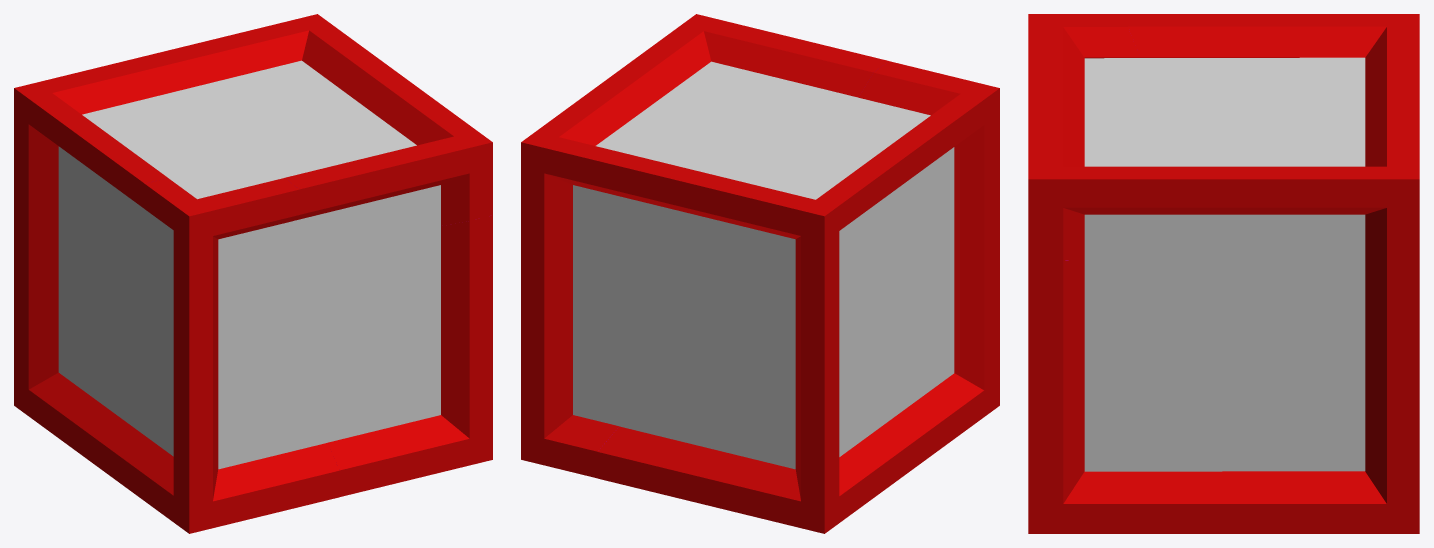
The model's file is Shattered_Crate_lp.fbx.
3 renders of one model, left to right at view 1: azimuth 30°, elevation 25°; view 2: azimuth 150°, elevation 25°; view 3: azimuth 270°, elevation 25°, orthographic. The views are drawn at different scales.
Visible parts, largest first — view 1: Wood_Plank3 (×3), Wood_Plank2 (×3), Wood_Plank4 (×3), Piece12, Wood_Plank (×3), Piece7, Piece13, Piece11, Wood_Plank5 (×2), Piece10, Piece1, Piece18 (+8 smaller); view 2: Wood_Plank3 (×3), Wood_Plank4 (×3), Wood_Plank2 (×3), Wood_Plank (×3), Piece7, Piece12, Wood_Plank5 (×3), Piece18, Piece9, Piece16, Piece10, Piece6 (+9 smaller); view 3: Wood_Plank3 (×2), Wood_Plank4 (×2), Wood_Plank2 (×2), Wood_Plank (×2), Piece13, Piece9, Piece11, Piece2, Piece1, Piece14, Piece6, Piece3 (+7 smaller).
Part boxes in pixels (bbox=[...]): Wood_Plank3 (×3): bbox=[111, 79, 364, 447]; Wood_Plank2 (×3): bbox=[79, 93, 308, 460]; Wood_Plank4 (×3): bbox=[143, 66, 419, 456]; Piece12: bbox=[103, 351, 339, 533]; Wood_Plank (×3): bbox=[58, 106, 253, 469]; Piece7: bbox=[144, 178, 299, 369]; Piece13: bbox=[328, 377, 492, 497]; Piece11: bbox=[441, 215, 492, 394]; Wood_Plank5 (×2): bbox=[281, 60, 440, 419]; Piece10: bbox=[14, 128, 58, 304]; Piece1: bbox=[398, 106, 492, 225]; Piece18: bbox=[14, 294, 89, 442]; Wood_Plank3 (×3): bbox=[663, 80, 913, 450]; Wood_Plank4 (×3): bbox=[617, 67, 945, 464]; Wood_Plank2 (×3): bbox=[608, 94, 898, 449]; Wood_Plank (×3): bbox=[573, 107, 930, 456]; Piece7: bbox=[859, 61, 999, 253]; Piece12: bbox=[893, 241, 999, 468]; Wood_Plank5 (×3): bbox=[596, 61, 954, 469]; Piece18: bbox=[753, 397, 875, 533]; Piece9: bbox=[521, 201, 572, 393]; Piece16: bbox=[597, 426, 753, 516]; Piece10: bbox=[795, 246, 839, 422]; Piece6: bbox=[778, 155, 900, 256]; Wood_Plank3 (×2): bbox=[1084, 106, 1365, 471]; Wood_Plank4 (×2): bbox=[1084, 137, 1365, 471]; Wood_Plank2 (×2): bbox=[1084, 77, 1365, 471]; Wood_Plank (×2): bbox=[1084, 57, 1365, 471]; Piece13: bbox=[1028, 429, 1222, 533]; Piece9: bbox=[1365, 245, 1419, 454]; Piece11: bbox=[1028, 260, 1084, 455]; Piece2: bbox=[1138, 166, 1345, 214]; Piece1: bbox=[1028, 147, 1148, 260]; Piece14: bbox=[1222, 471, 1362, 533]; Piece6: bbox=[1246, 14, 1419, 66]; Piece3: bbox=[1330, 151, 1419, 246].
Bounding box in the file's own units: 1 × 1 × 1.
